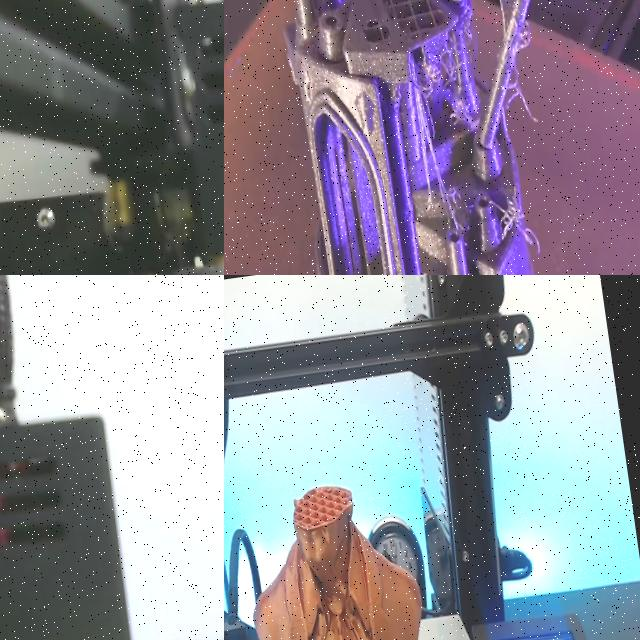spaghetti: (401, 19, 488, 143), (492, 15, 552, 132), (496, 188, 546, 258)
